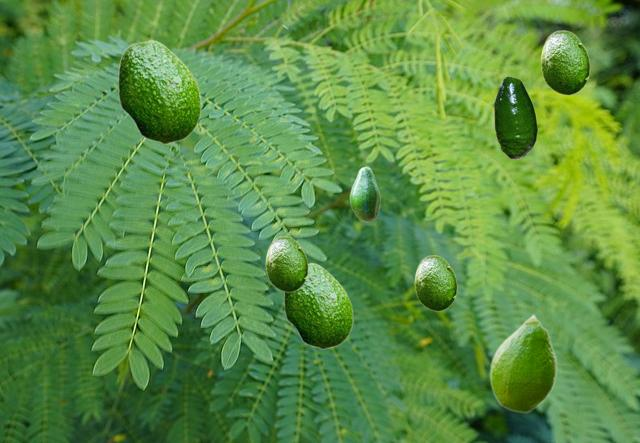avocado: (117, 39, 200, 143), (489, 313, 556, 412), (283, 262, 352, 348), (494, 76, 536, 158), (540, 30, 589, 94), (414, 255, 456, 310), (265, 236, 307, 291), (349, 166, 379, 221)
